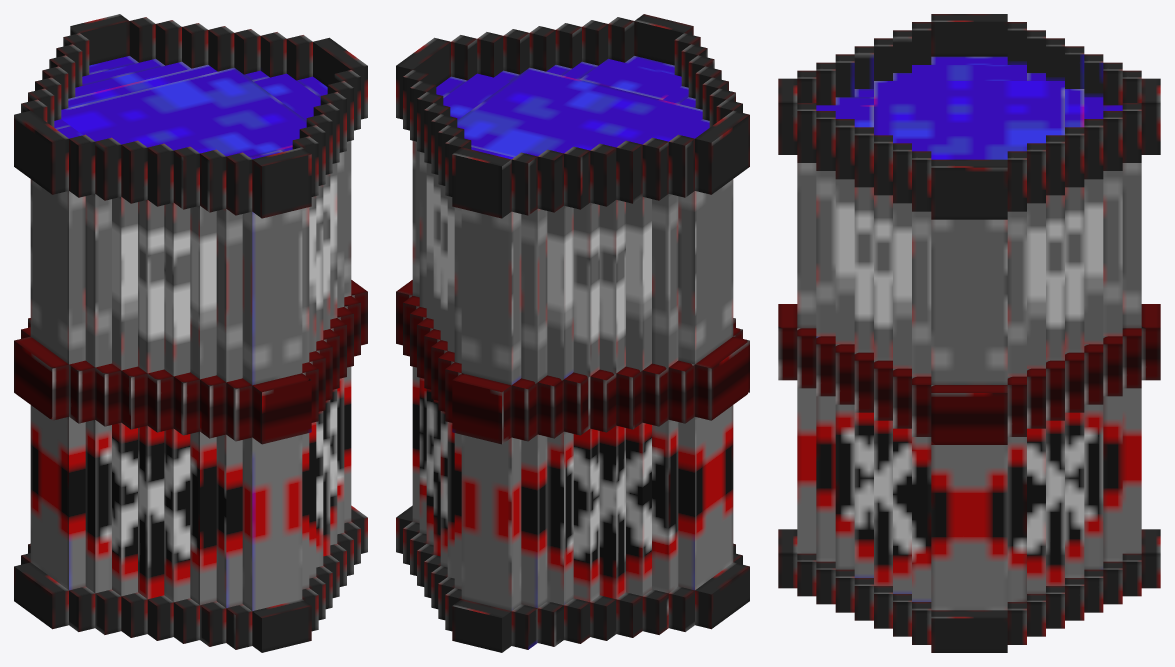
Rendered from barrel.dae.
The picture shows the model from 3 angles, left to right: view 1: azimuth 30°, elevation 25°; view 2: azimuth 150°, elevation 25°; view 3: azimuth 270°, elevation 25°; orthographic projection.
Parts seen in each view (by area): view 1: Barrel-local; view 2: Barrel-local; view 3: Barrel-local.
Boxes of the visible parts, x1,y1,x2,y2 form: Barrel-local: (14, 14, 367, 652); Barrel-local: (396, 14, 749, 652); Barrel-local: (778, 14, 1160, 652).
Size of the model in its own units: 38 by 56 by 40.
1 material, 1 textured.
